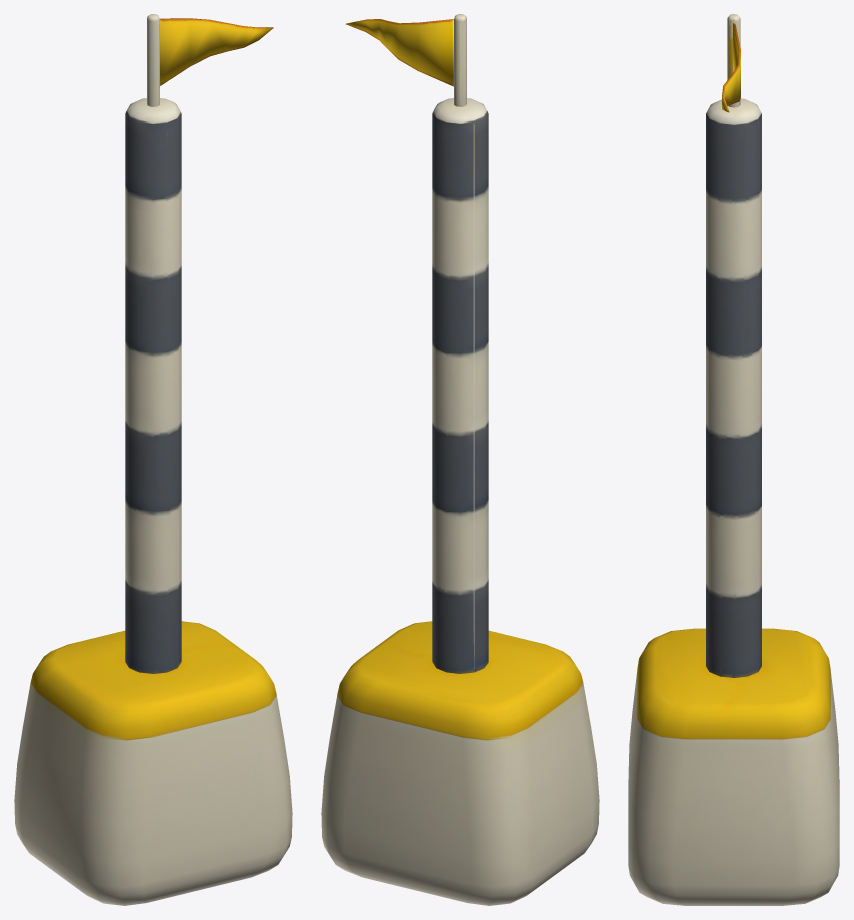
Rendered from gp_borne.glb.
The picture shows the model from 3 angles, left to right: view 1: azimuth 30°, elevation 25°; view 2: azimuth 150°, elevation 25°; view 3: azimuth 270°, elevation 25°; orthographic projection.
Visible parts, largest first — view 1: gp_borne; view 2: gp_borne; view 3: gp_borne.
Boxes of the visible parts, x1,y1,x2,y2 form: gp_borne: (14,14,292,905); gp_borne: (321,14,599,905); gp_borne: (628,14,839,905).
Bounding box in the file's own units: 0.272 × 0.9995 × 0.2251.
1 material, 1 textured.
